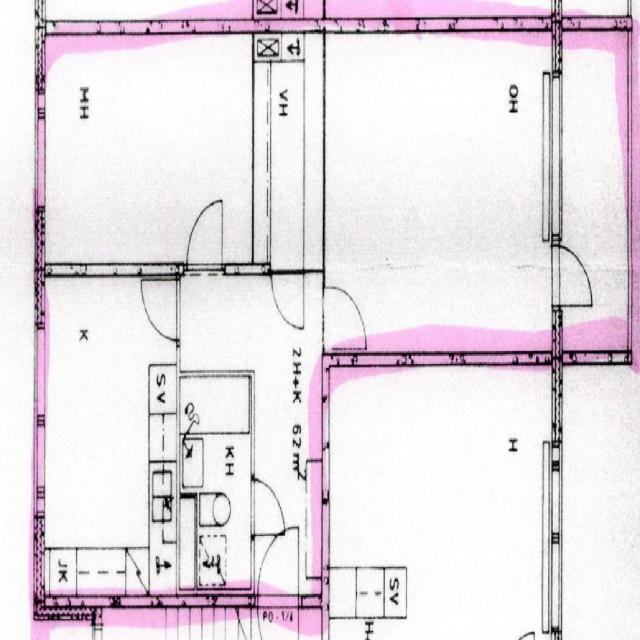door: (258, 522, 298, 605), (186, 200, 222, 274), (552, 245, 596, 305), (322, 286, 360, 348), (142, 278, 180, 339), (271, 268, 304, 332), (251, 480, 285, 534)
